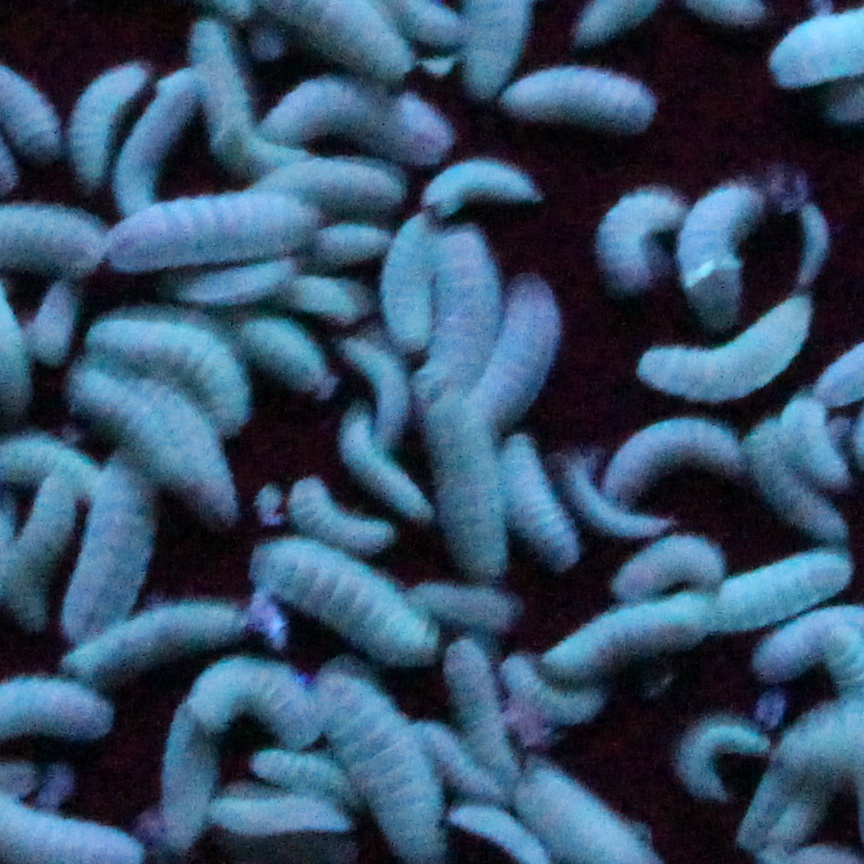larve: (76, 310, 262, 403), (73, 592, 258, 682), (261, 538, 409, 646), (432, 438, 528, 590), (62, 471, 151, 628), (580, 168, 683, 297), (551, 596, 705, 682), (273, 85, 448, 160), (176, 25, 265, 171), (665, 686, 769, 809), (591, 430, 750, 508), (489, 276, 565, 420), (755, 432, 855, 539), (109, 210, 318, 260), (151, 378, 233, 503), (494, 72, 661, 131), (90, 385, 190, 482), (444, 639, 519, 764), (635, 327, 787, 386), (702, 564, 839, 620), (694, 196, 758, 296), (388, 216, 434, 348), (251, 307, 330, 382), (23, 206, 105, 278), (74, 69, 119, 197), (416, 164, 539, 209), (17, 51, 61, 162)
